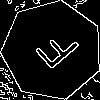F: (27, 25, 82, 79)
